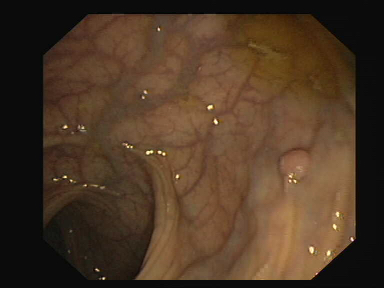polyp: (276, 145, 317, 185)
